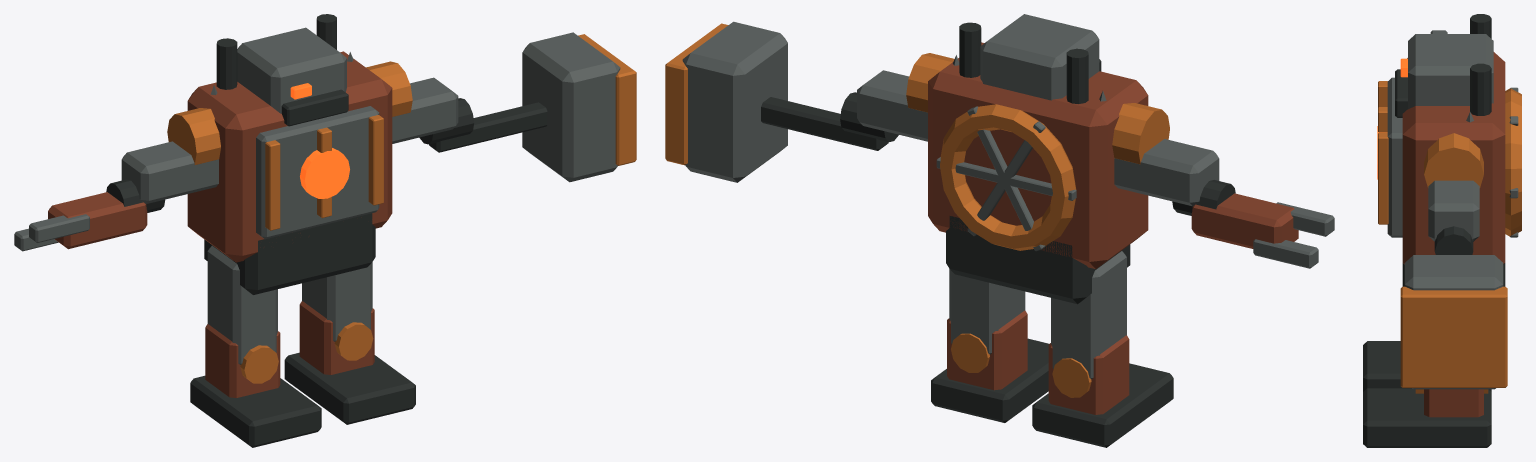
Rendered from robot-butcher.glb.
3 views of the same model, side by side, from view 1: azimuth 30°, elevation 25°; view 2: azimuth 150°, elevation 25°; view 3: azimuth 270°, elevation 25° (orthographic). The views are drawn at different scales.
Visible parts, largest first — view 1: Butcher_Chest, Butcher_HammerHead, Butcher_ChestPlate, Butcher_Pelvis, Butcher_Head, Butcher_LFoot, Butcher_RFoot, Butcher_LThigh, Butcher_LUpperArm, Butcher_RThigh, Butcher_LClawForearm, Butcher_RUpperArm (+17 smaller); view 2: Butcher_Chest, Butcher_HammerHead, Butcher_Flywheel, Butcher_Head, Butcher_Pelvis, Butcher_LThigh, Butcher_LFoot, Butcher_LUpperArm, Butcher_RFoot, Butcher_LClawForearm, Butcher_RThigh, Butcher_RUpperArm (+18 smaller); view 3: Butcher_HammerFace, Butcher_Chest, Butcher_RFoot, Butcher_Head, Butcher_HammerHead, Butcher_RUpperArm, Butcher_RShoulder, Butcher_Flywheel, Butcher_ChestPlate, Butcher_LFoot, Butcher_RShin, Butcher_ExhaustR (+6 smaller).
Boxes of the visible parts, x1,y1,x2,y2 form: Butcher_Chest: [187, 51, 392, 262]; Butcher_HammerHead: [522, 32, 620, 182]; Butcher_ChestPlate: [256, 106, 379, 239]; Butcher_Pelvis: [204, 213, 375, 294]; Butcher_Head: [237, 27, 346, 113]; Butcher_LFoot: [190, 375, 321, 447]; Butcher_RFoot: [284, 352, 415, 424]; Butcher_LThigh: [207, 245, 277, 364]; Butcher_LUpperArm: [121, 141, 218, 203]; Butcher_RThigh: [302, 262, 372, 341]; Butcher_LClawForearm: [48, 192, 147, 249]; Butcher_RUpperArm: [392, 77, 458, 143]; Butcher_Chest: [928, 42, 1148, 269]; Butcher_HammerHead: [682, 21, 787, 182]; Butcher_Flywheel: [940, 104, 1076, 250]; Butcher_Head: [980, 14, 1099, 100]; Butcher_Pelvis: [946, 216, 1130, 304]; Butcher_LThigh: [1051, 251, 1126, 379]; Butcher_LFoot: [1032, 363, 1173, 447]; Butcher_LUpperArm: [1114, 139, 1219, 206]; Butcher_RFoot: [931, 338, 1048, 422]; Butcher_LClawForearm: [1191, 193, 1298, 248]; Butcher_RThigh: [949, 269, 1025, 354]; Butcher_RUpperArm: [857, 70, 927, 141]; Butcher_HammerFace: [1400, 286, 1507, 387]; Butcher_Chest: [1402, 52, 1505, 264]; Butcher_RFoot: [1363, 388, 1491, 447]; Butcher_Head: [1408, 34, 1493, 109]; Butcher_HammerHead: [1404, 255, 1503, 389]; Butcher_RUpperArm: [1428, 180, 1479, 241]; Butcher_RShoulder: [1424, 133, 1483, 187]; Butcher_Flywheel: [1505, 88, 1521, 236]; Butcher_ChestPlate: [1387, 77, 1402, 237]; Butcher_LFoot: [1363, 341, 1491, 391]; Butcher_RShin: [1424, 389, 1483, 417]; Butcher_ExhaustR: [1470, 63, 1491, 115].
Bounding box in the file's own units: 6.46 × 3.76 × 1.48.
